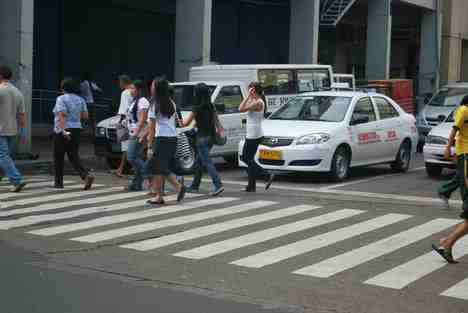car: (281, 92, 418, 176)
pedestrian lane: (1, 175, 468, 298)
person: (54, 77, 94, 191), (150, 76, 186, 202), (188, 82, 225, 196), (238, 82, 273, 190), (1, 67, 26, 192), (127, 82, 146, 189)
